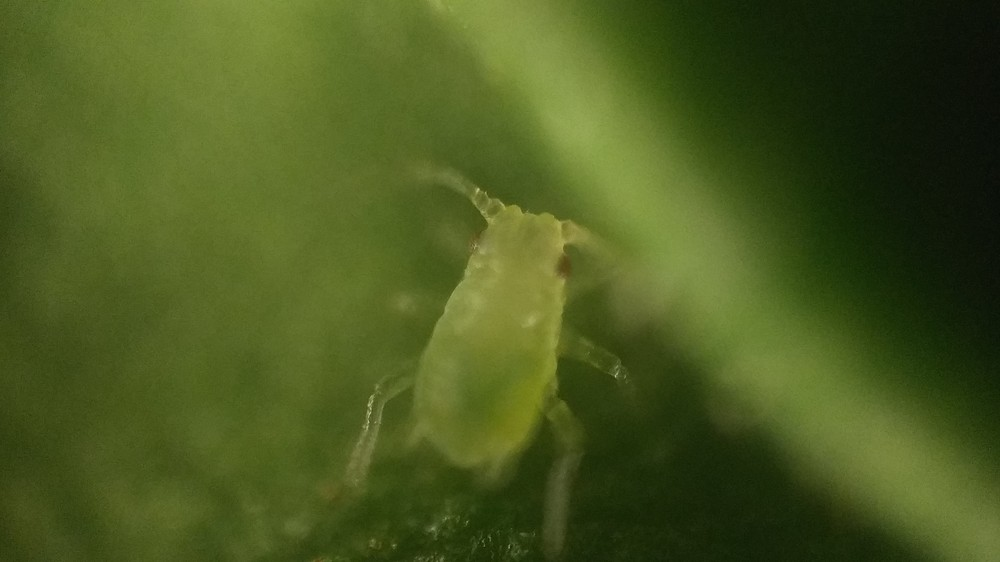Pulgon: (307, 148, 711, 551)
